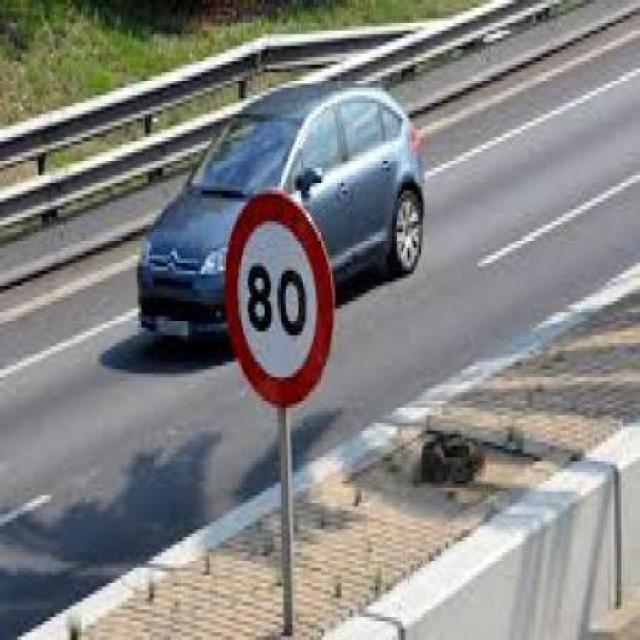forb_speed_over_80: (231, 194, 326, 403)
